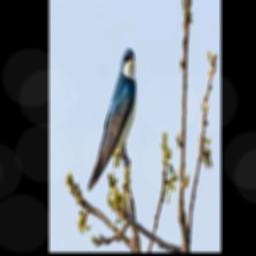Swallow: (85, 41, 139, 193)
